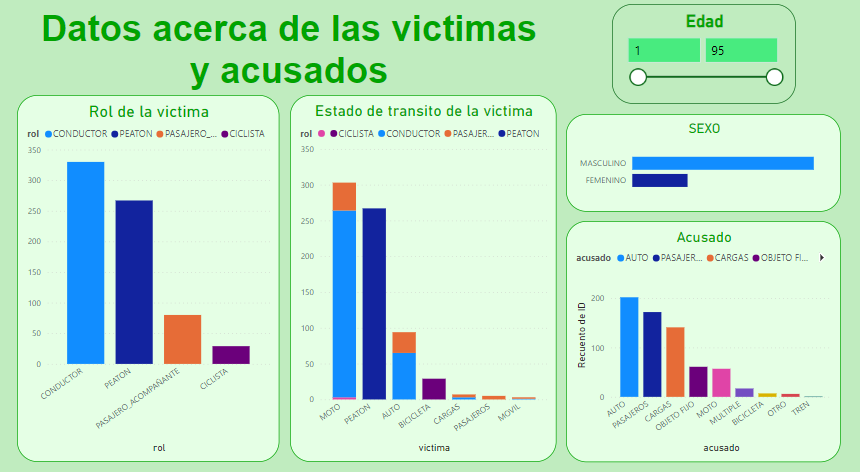

What the dashboard file says about the page in this screenshot:
{"tool":"powerbi","page":{"name":"Estadisticas de Vcitimas","canvas":[1280,720],"ordinal":3},"visuals":[{"type":"columnChart","title":"Estado de transito de la victima","fields":{"Category":["victimas.victima"],"Y":["CountNonNull(victimas.ID)"],"Series":["victimas.rol"]},"box":[437.7,148,390.5,536.9],"z":0},{"type":"barChart","title":"SEXO","fields":{"Y":["CountNonNull(victimas.ID)"],"Category":["victimas.sexo"],"Series":["victimas.sexo"]},"box":[841.5,175.6,402.4,143.4],"z":1000},{"type":"slicer","title":"Edad","fields":{"Values":["victimas.edad"]},"box":[908.8,14.6,269.3,146.3],"z":2000},{"type":"columnChart","title":"Rol de la victima","fields":{"Y":["CountNonNull(victimas.ID)"],"Category":["victimas.rol"],"Series":["victimas.rol"]},"box":[37.8,148,384.2,536.9],"z":3000},{"type":"pieChart","title":"Acusado","fields":{"Category":["hechos.acusado"],"Y":["CountNonNull(hechos.ID)"]},"box":[841.5,332.2,402.4,352.7],"z":4000},{"type":"textbox","box":[48.8,14.2,776.2,133.8],"z":5000}]}

Visuals, with their boxes in screenshot pixels (x1, y1, x2, y2), scaled from the page's 1280x720 canvas onto the 860x472 screenshot:
"Estado de transito de la victima" columnChart: region(294, 97, 556, 449)
"SEXO" barChart: region(565, 115, 836, 209)
"Edad" slicer: region(611, 10, 792, 105)
"Rol de la victima" columnChart: region(25, 97, 284, 449)
"Acusado" pieChart: region(565, 218, 836, 449)
textbox: region(33, 9, 554, 97)
